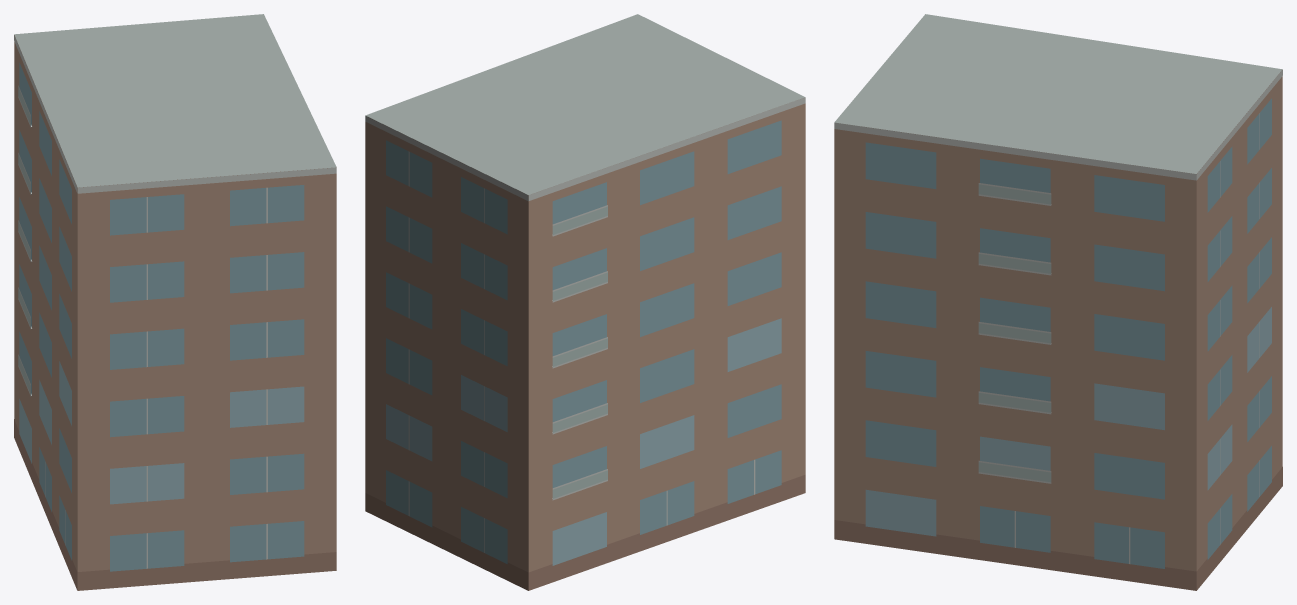
The model's file is survey-upis-32851051.glb.
3 renders of one model, left to right at view 1: azimuth 30°, elevation 25°; view 2: azimuth 150°, elevation 25°; view 3: azimuth 270°, elevation 25°, orthographic. The views are drawn at different scales.
Visible parts, largest first — view 1: survey-upis-32851051.tmp; view 2: survey-upis-32851051.tmp; view 3: survey-upis-32851051.tmp.
Boxes of the visible parts, <box> form: survey-upis-32851051.tmp: <box>14,14,336,590</box>; survey-upis-32851051.tmp: <box>365,14,805,590</box>; survey-upis-32851051.tmp: <box>834,14,1282,590</box>.
Size of the model in its own units: 12.94 by 15.7 by 15.32.
